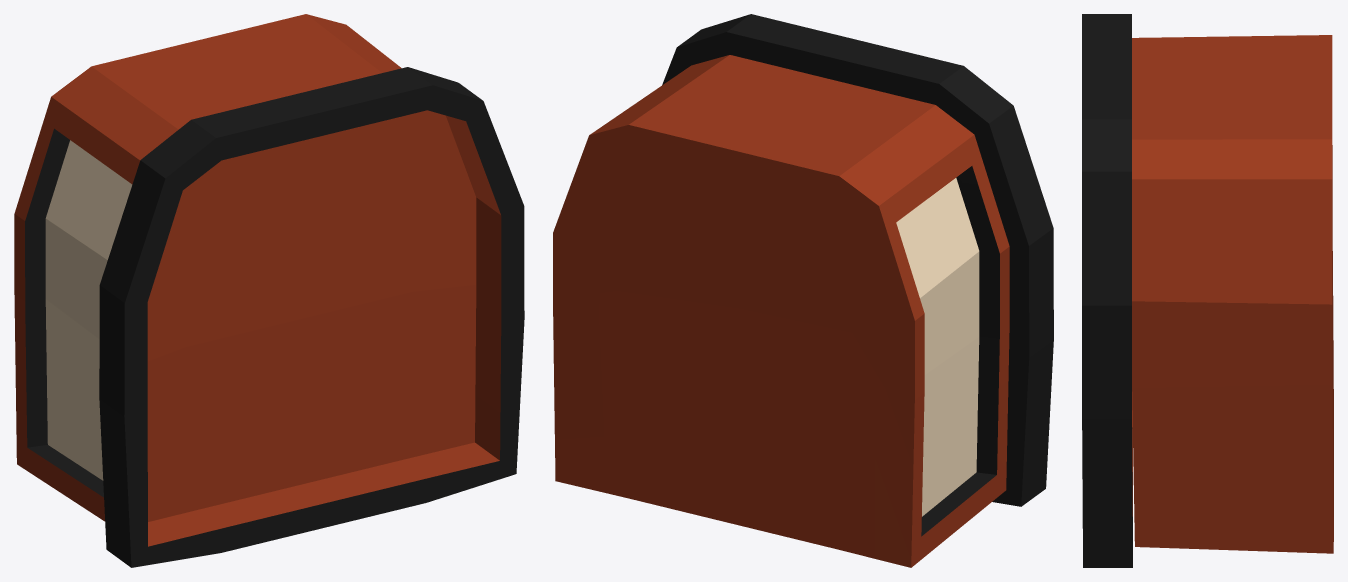
Rendered from kokpit_3.fbx.
3 views of the same model, side by side, from view 1: azimuth 30°, elevation 25°; view 2: azimuth 150°, elevation 25°; view 3: azimuth 270°, elevation 25° (orthographic).
Visible parts, largest first — view 1: Cube.004; view 2: Cube.004; view 3: Cube.004.
Boxes of the visible parts, x1,y1,x2,y2 form: Cube.004: [14, 14, 524, 567]; Cube.004: [553, 14, 1053, 567]; Cube.004: [1082, 14, 1333, 567].
Bounding box in the file's own units: 301 × 299 × 165.
